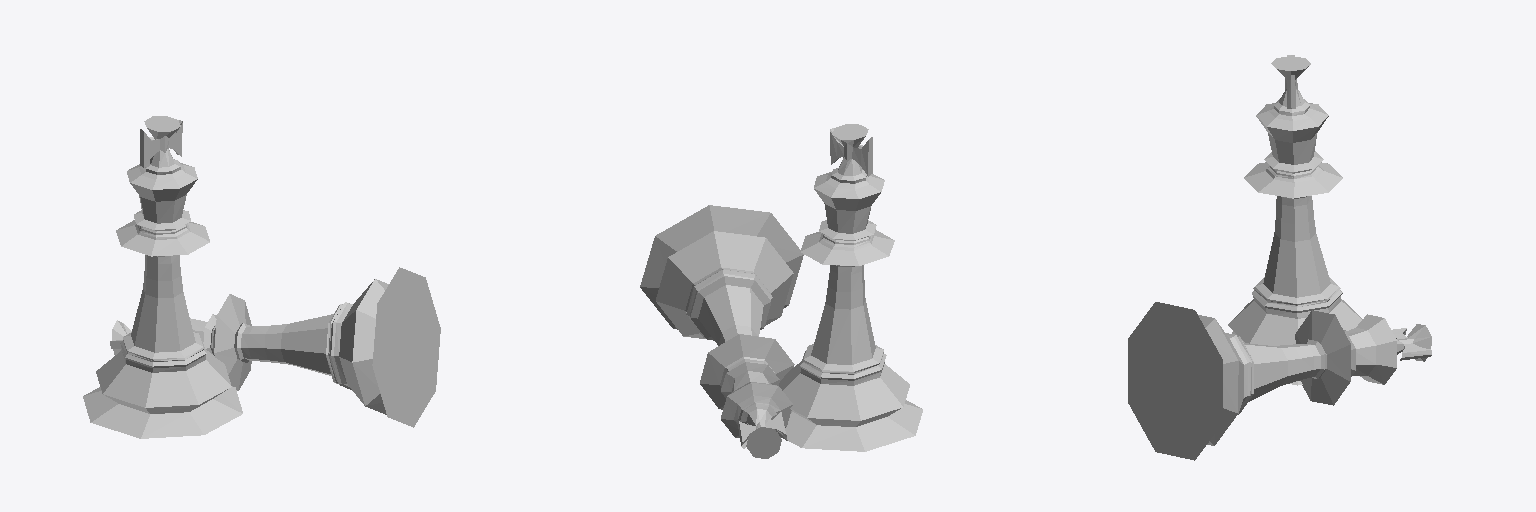
Rendered from chessKing.obj.
The picture shows the model from 3 angles: view 1: azimuth 30°, elevation 25°; view 2: azimuth 150°, elevation 25°; view 3: azimuth 270°, elevation 25°; orthographic projection.
Visible parts, largest first — view 1: pCylinder1, pCylinder2; view 2: pCylinder2, pCylinder1; view 3: pCylinder2, pCylinder1.
Part boxes in pixels (x1,y1,x2,y2): pCylinder1: (83, 116, 242, 438); pCylinder2: (110, 267, 440, 427); pCylinder2: (640, 205, 803, 458); pCylinder1: (779, 124, 922, 451); pCylinder2: (1128, 302, 1431, 460); pCylinder1: (1228, 55, 1362, 385).
Bounding box in the file's own units: 3.8 × 3.47 × 3.21.